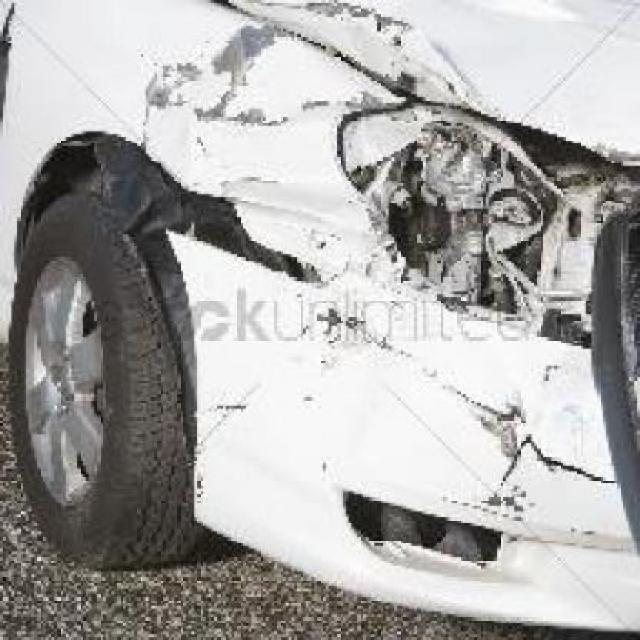damaged-front-bumper: (177, 294, 637, 610)
damaged-head-light: (328, 68, 638, 366)
dent-or-scratch: (132, 0, 331, 185)
